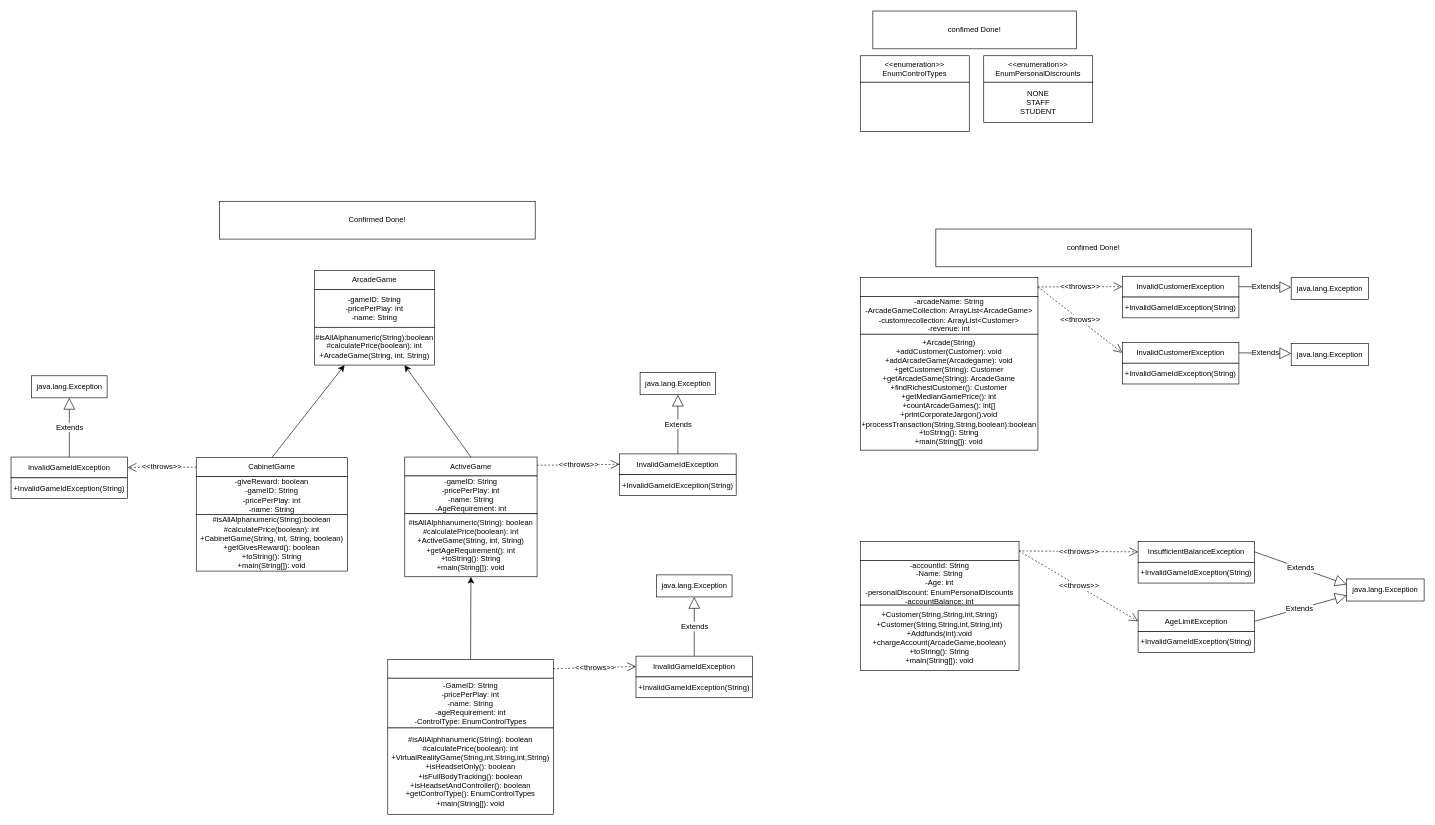
The diagram is 1435 pixels wide and 825 high, and some of its shapes have lost their labels. Each missing label, with the centre of its shape:
Arcade: [949,286]
Customer: [939,550]
HEADSETONLY FULLBODYTRACKING HEADSETANDCONTROLLER: [914,106]
VirtualRealityGame: [470,668]
